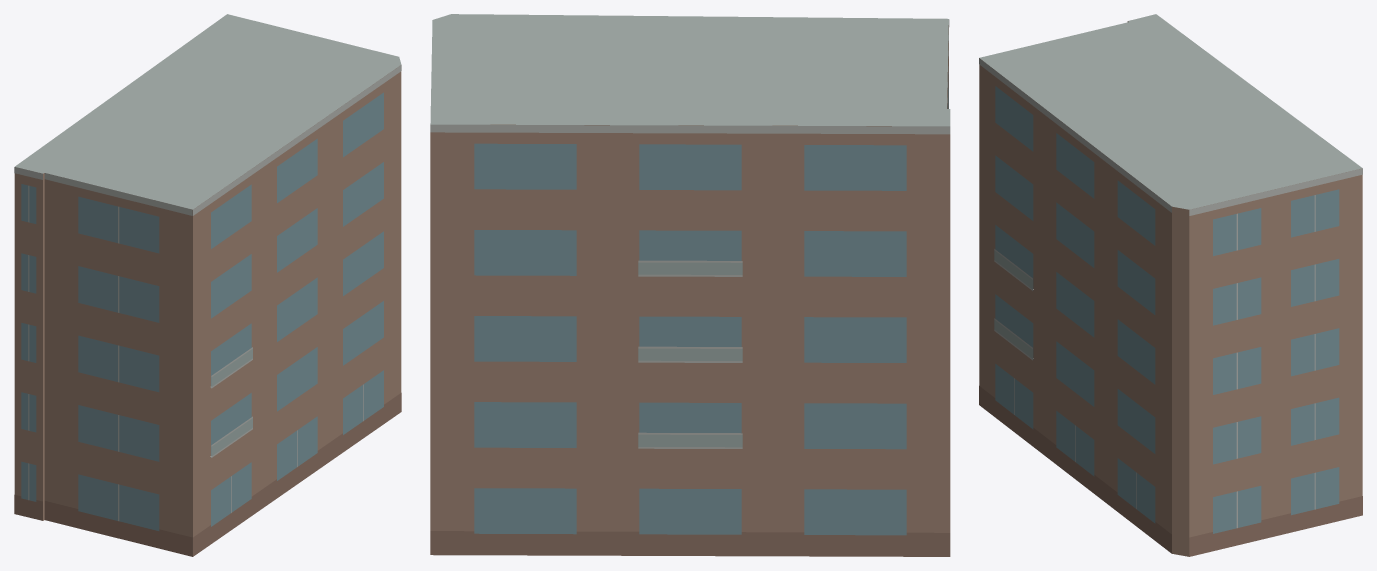
File: survey-upis-32960502.glb
The picture shows the model from 3 angles, left to right: view 1: azimuth 30°, elevation 25°; view 2: azimuth 150°, elevation 25°; view 3: azimuth 270°, elevation 25°; orthographic projection. The views are drawn at different scales.
Visible parts, largest first — view 1: survey-upis-32960502.tmp; view 2: survey-upis-32960502.tmp; view 3: survey-upis-32960502.tmp.
Boxes of the visible parts, x1,y1,x2,y2 form: survey-upis-32960502.tmp: (14, 14, 401, 556); survey-upis-32960502.tmp: (430, 14, 950, 556); survey-upis-32960502.tmp: (979, 14, 1362, 556).
Size of the model in its own units: 15.97 by 13.2 by 13.23.
